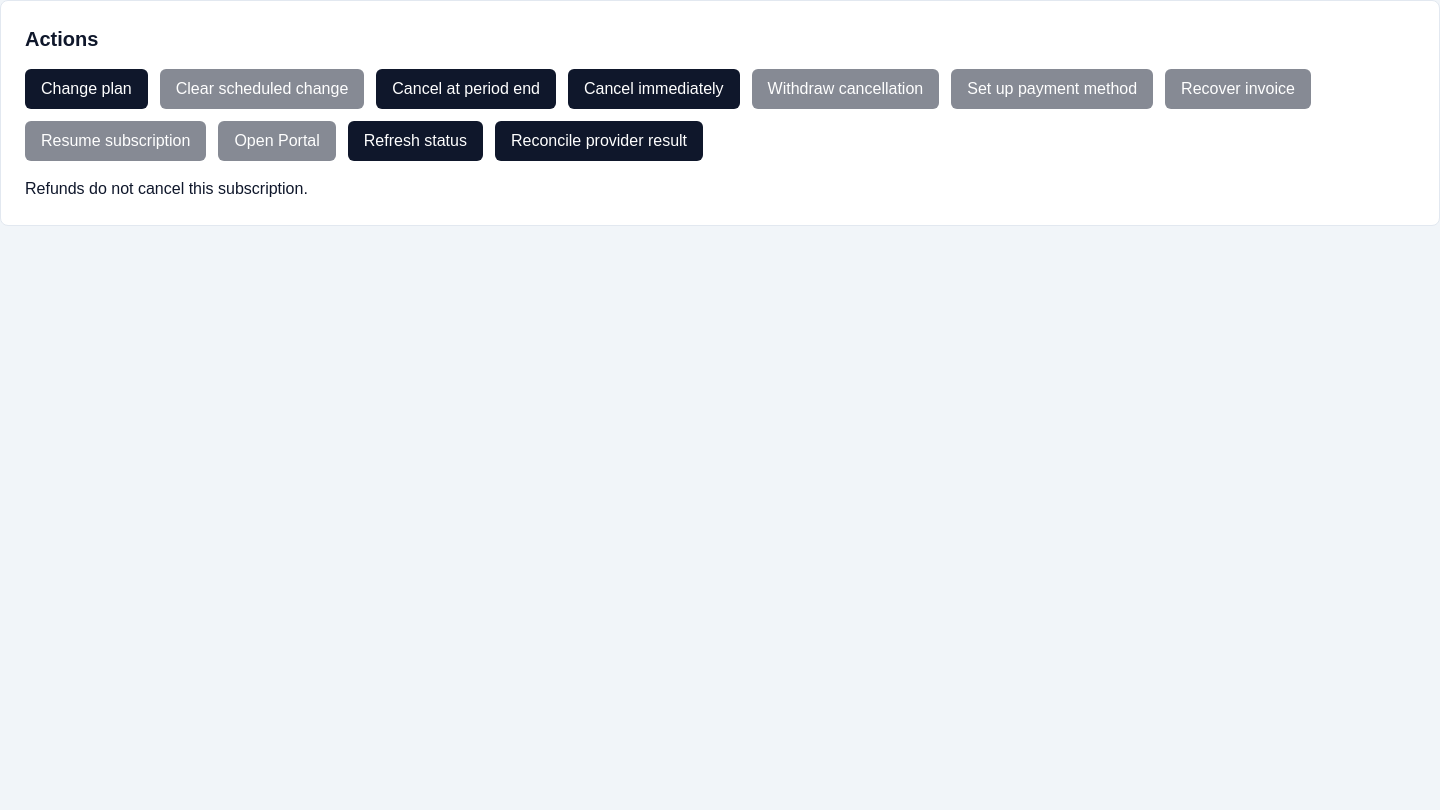
Test: ignores a late preview after target intent changes and refreshes a preview conflict without applying
The image size is (1440, 810).
Click the button "Change plan" at (86, 89), box [25,69,148,109]
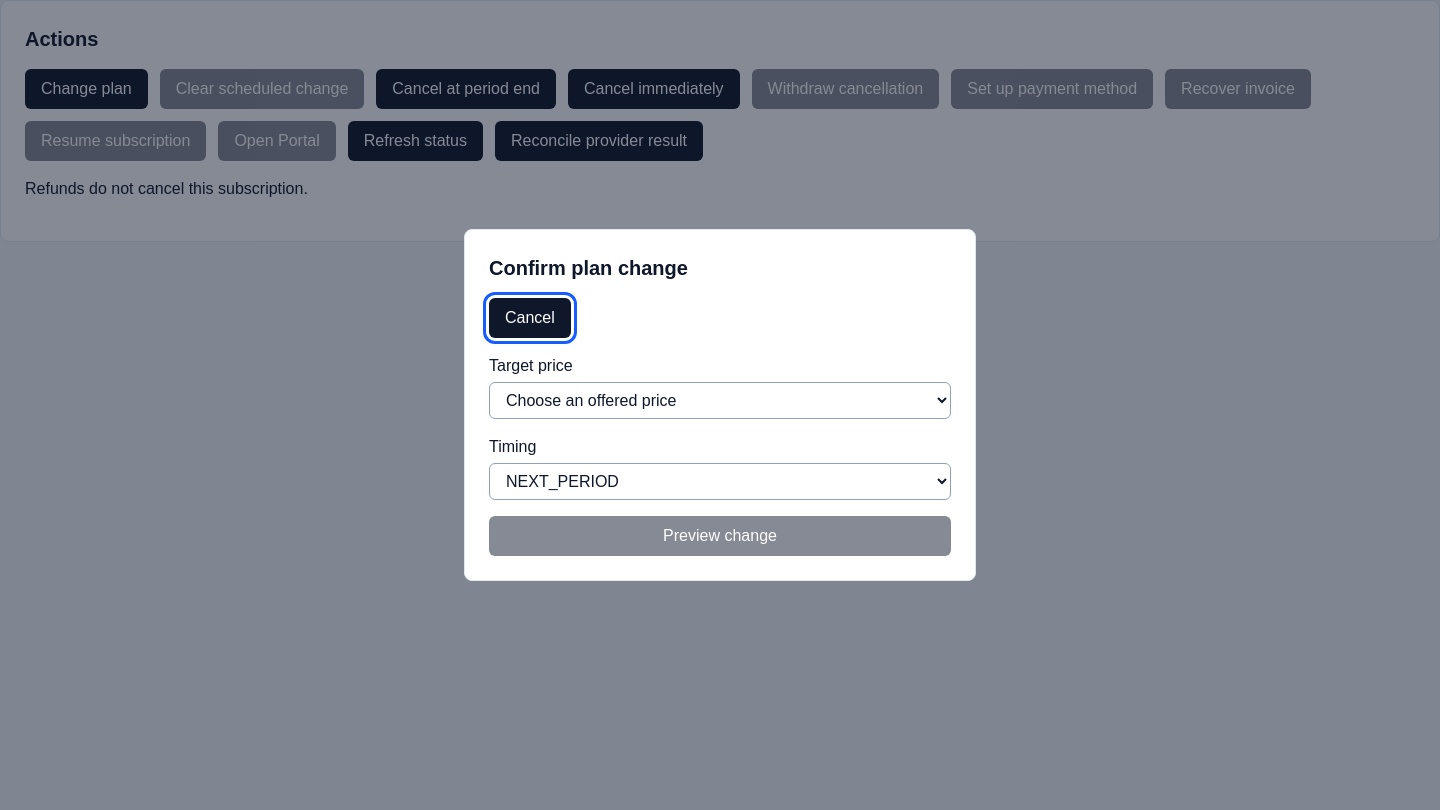
Select "monthly · v1 · 70000000-0000-0000-0000-000000000007 · UPGRADE" in the dropdown labelled "Target price" at (720, 400), box [489,382,951,419]
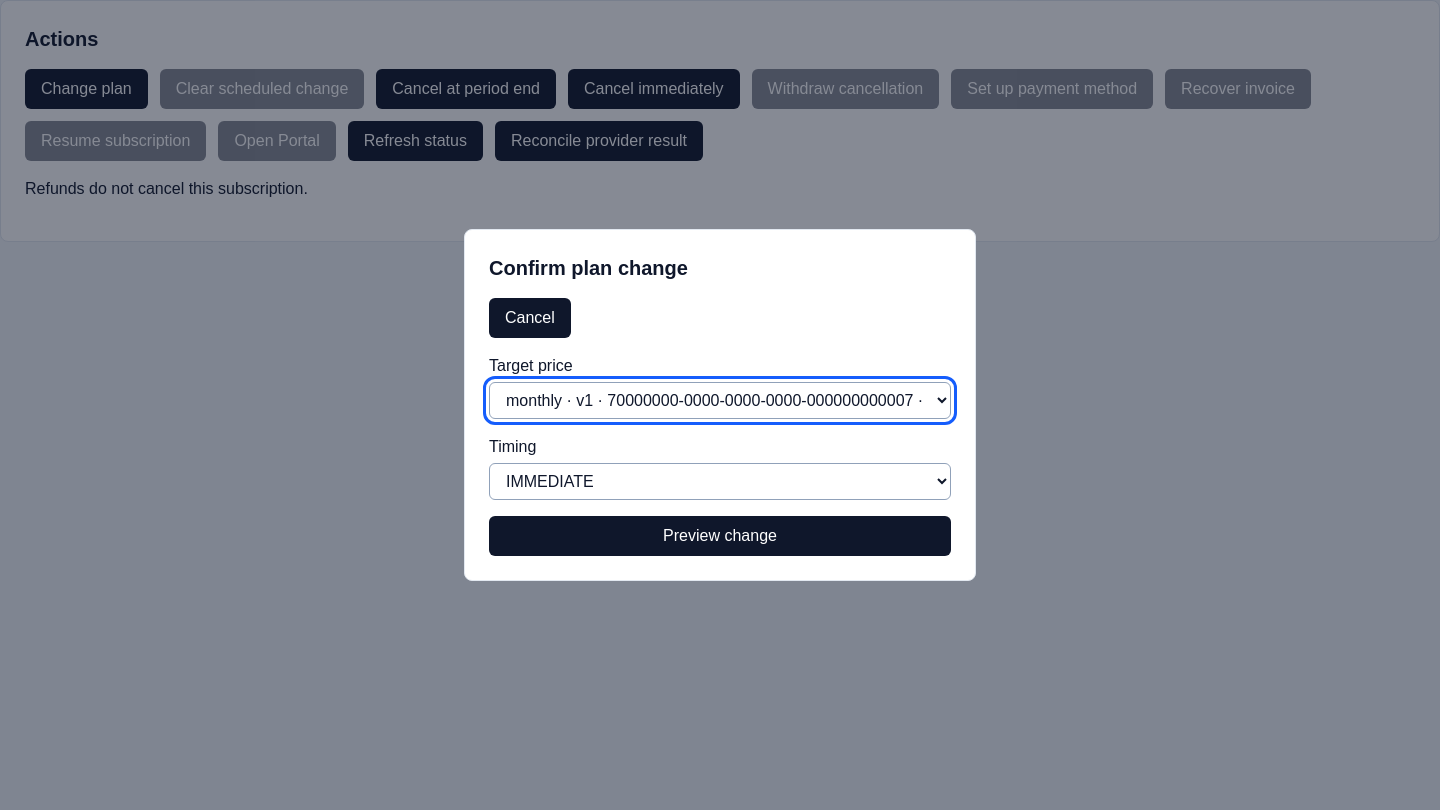
Click the button "Preview change" at (720, 536), box [489,516,951,556]
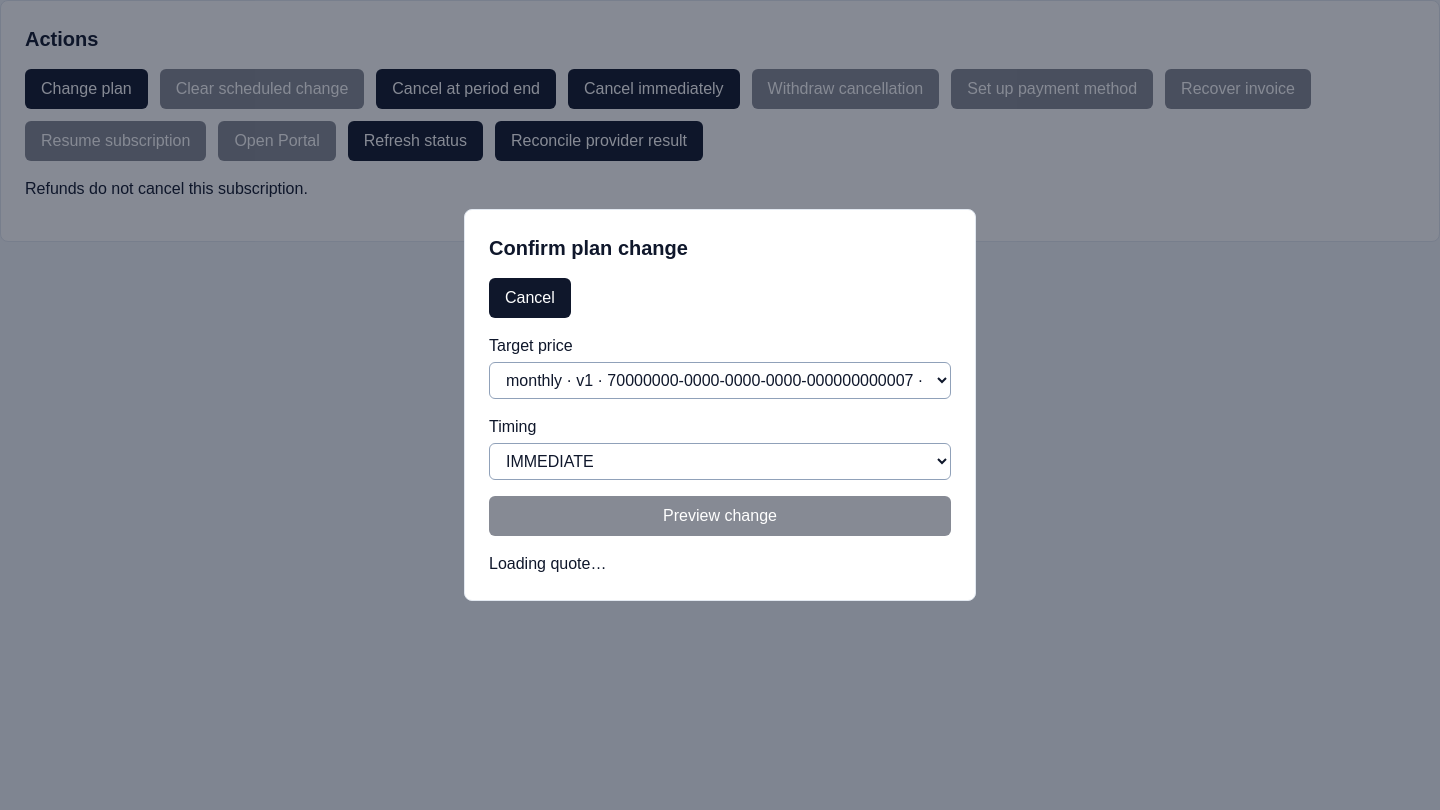
Select "Choose an offered price" in the dropdown labelled "Target price" at (720, 380), box [489,362,951,399]
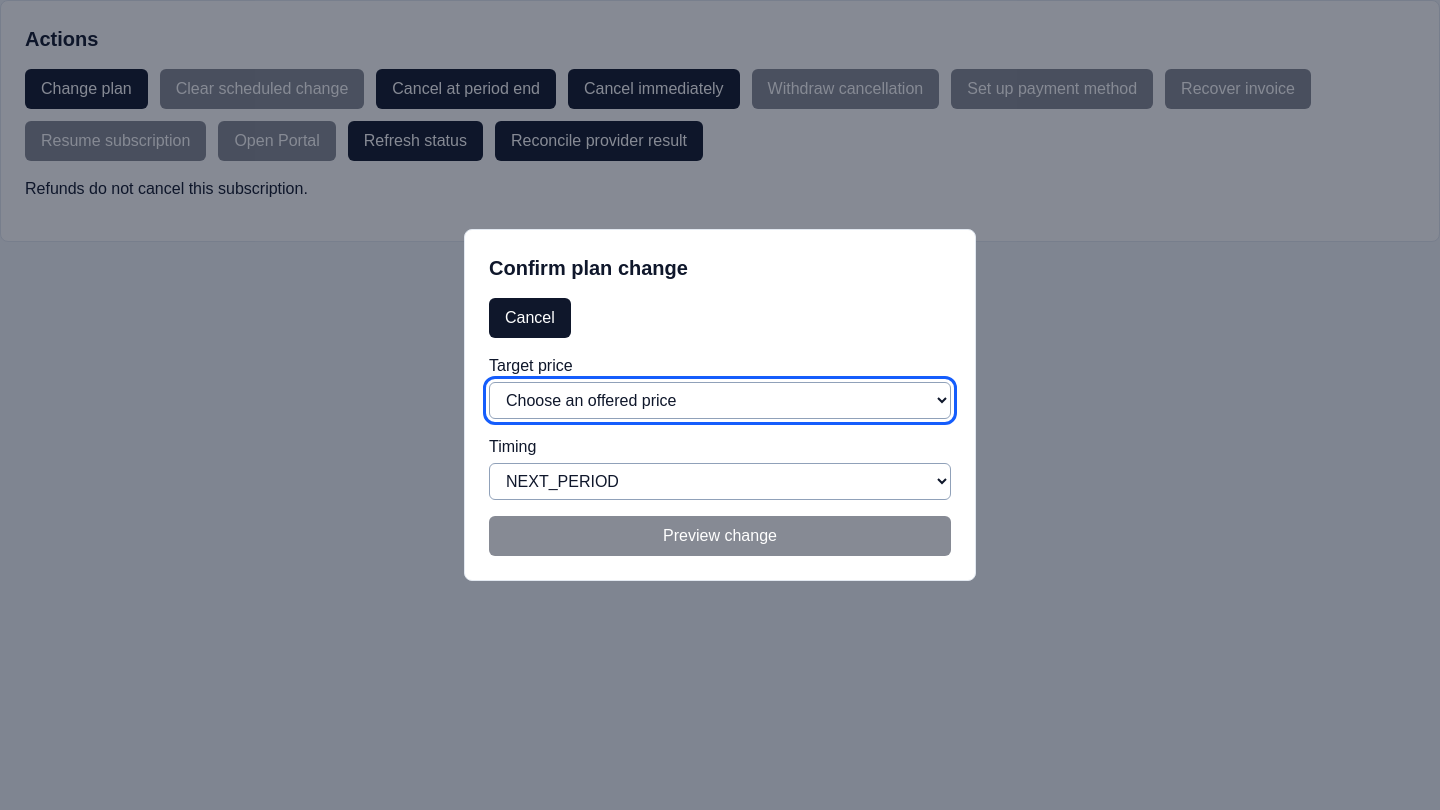
Select "monthly · v1 · 70000000-0000-0000-0000-000000000007 · UPGRADE" in the dropdown labelled "Target price" at (720, 400), box [489,382,951,419]
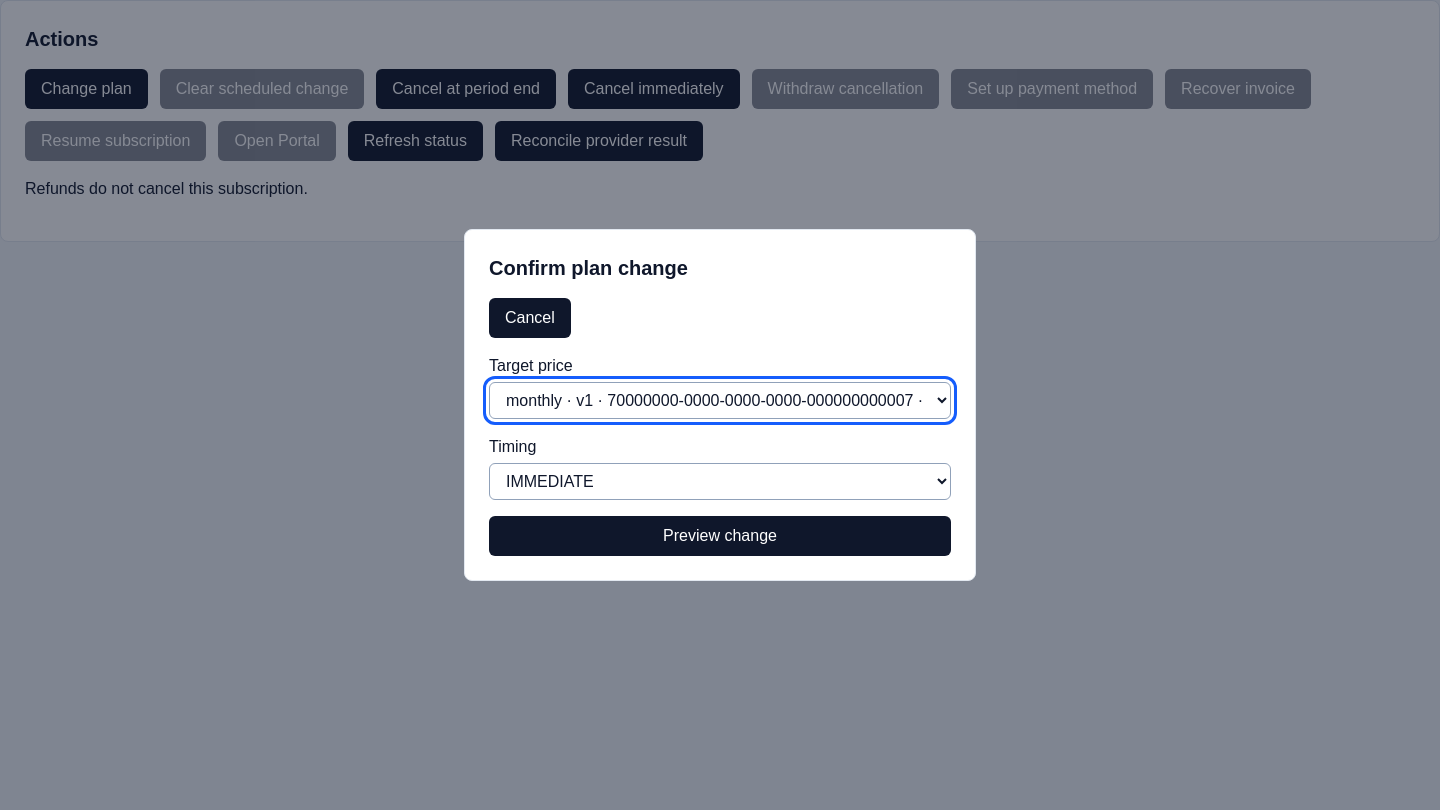
Click the button "Preview change" at (720, 536), box [489,516,951,556]
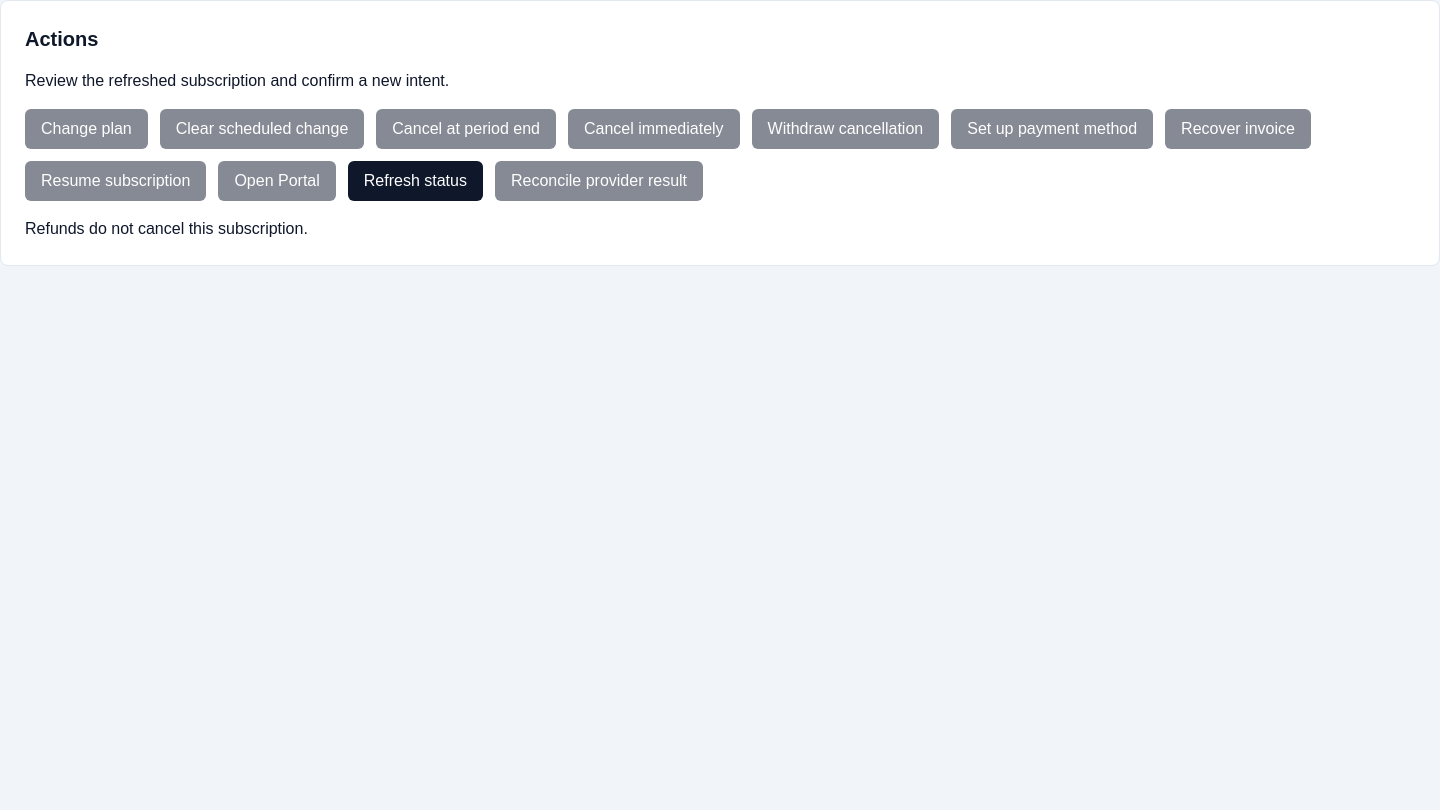
Now the dialog is gone
